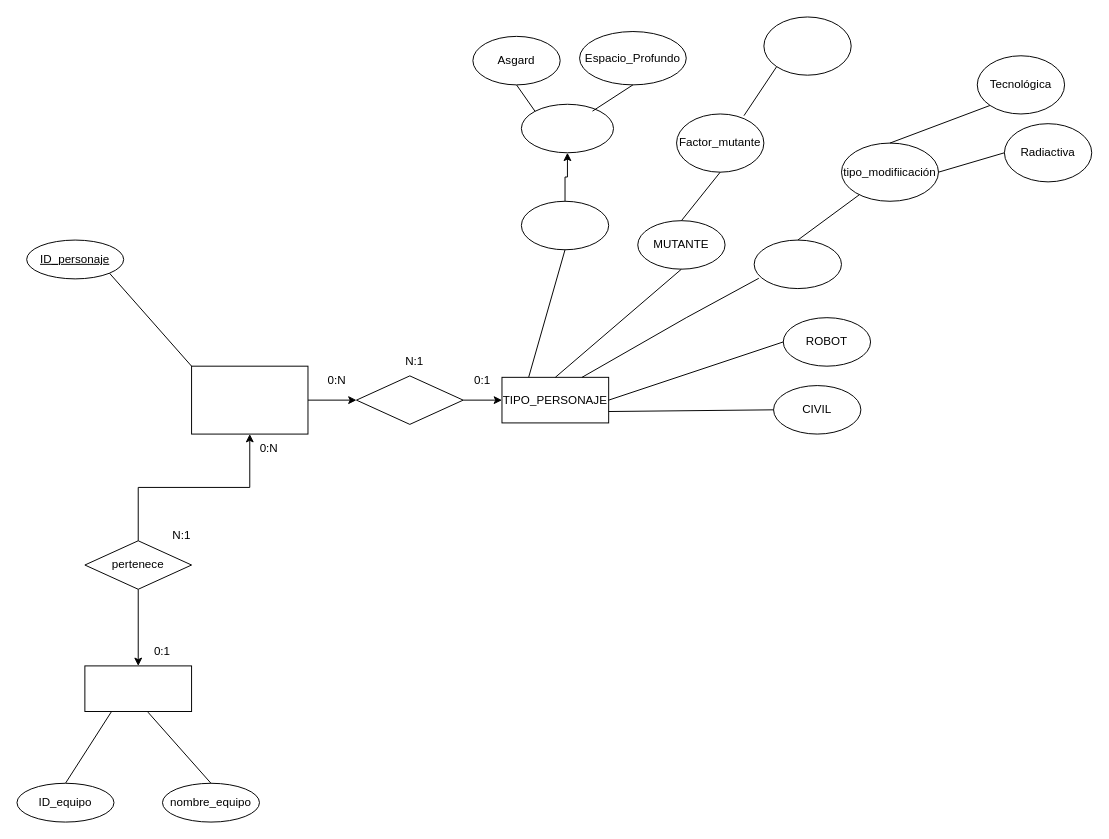
Image size: 1109x839. Some labels were removed from this diagram. The shapes that lost their labels are listed below. From the top down, each one's centre as x and y in pixels, then its label:
point (807, 45): Omega
point (567, 128): origen_cosmico
point (564, 225): COSMICO
point (797, 264): HUMANO MODIFICADO
point (249, 399): PERSONAJE
point (409, 399): es
point (138, 688): EQUIPO
